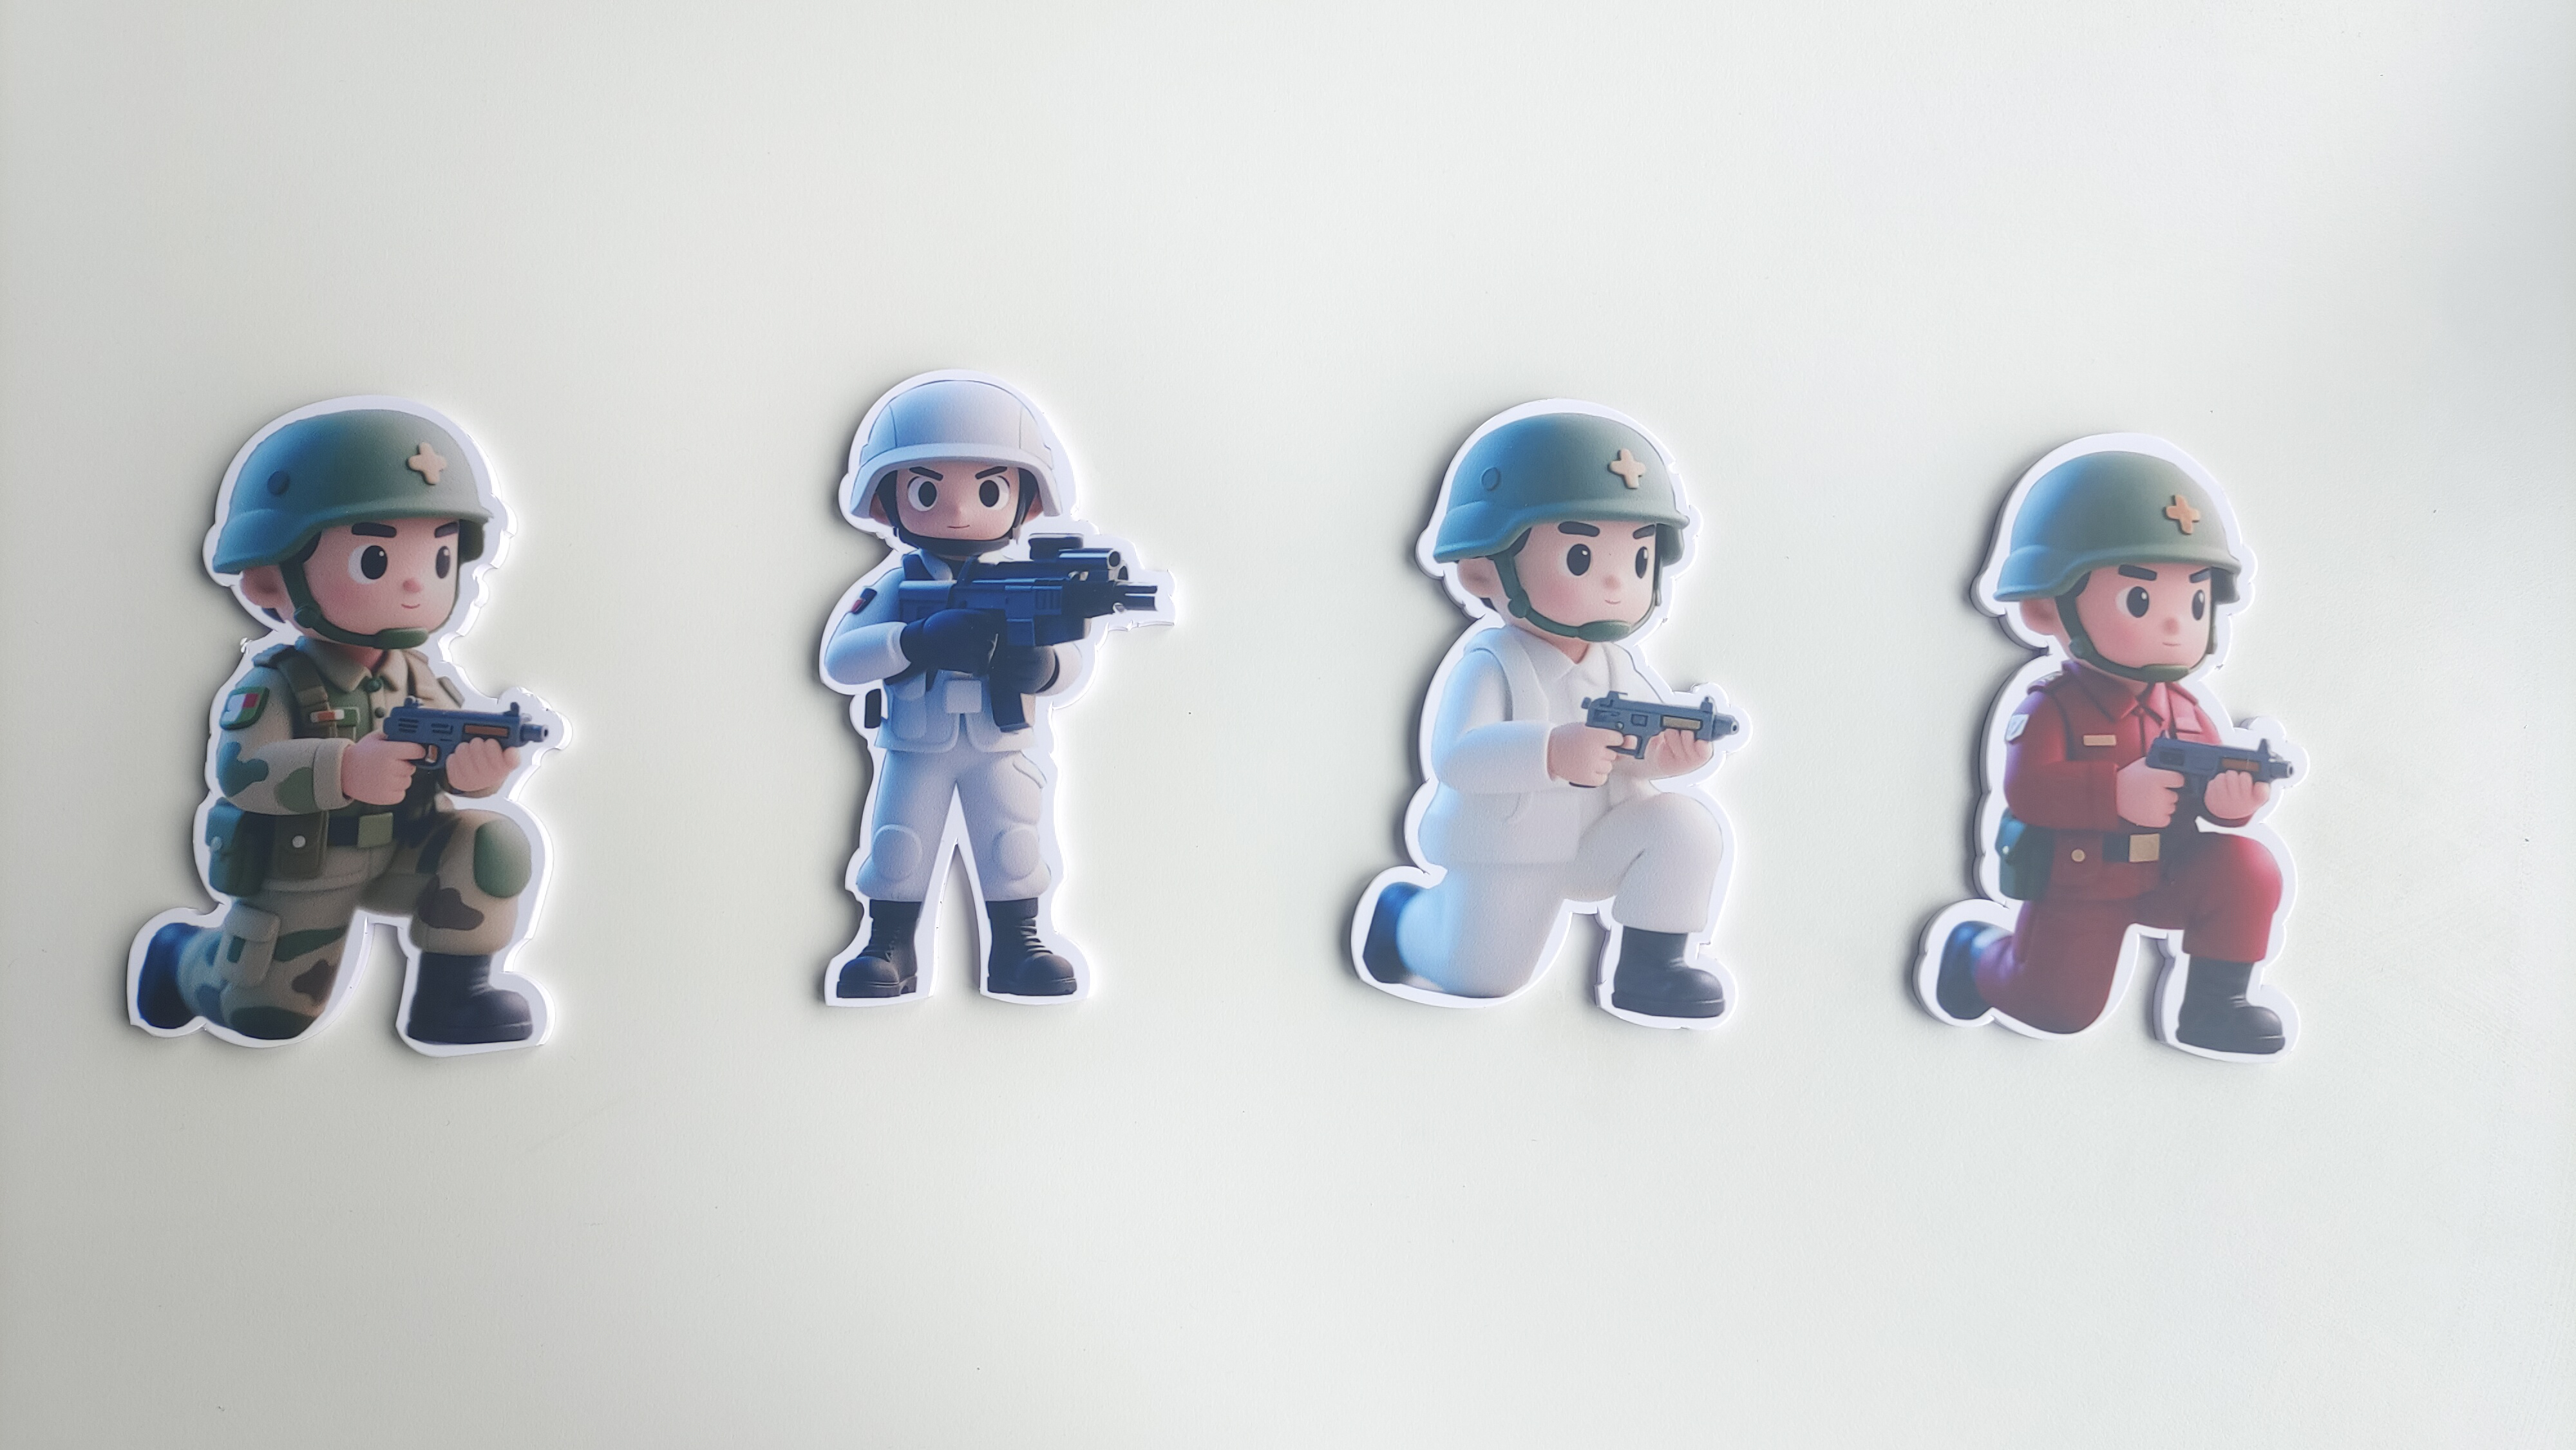enemy1: (1905, 667, 2312, 1068)
friend: (103, 647, 582, 1061)
hostage: (1325, 628, 1766, 1042), (784, 546, 1116, 1006)
